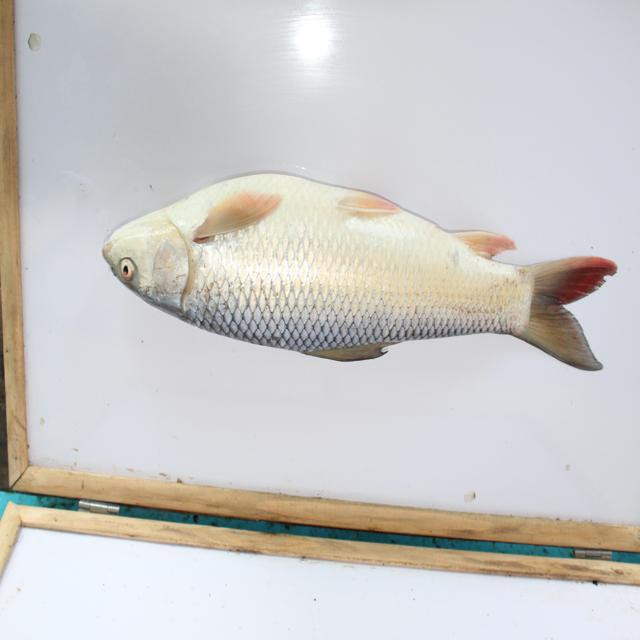Mori: (93, 167, 626, 391)
